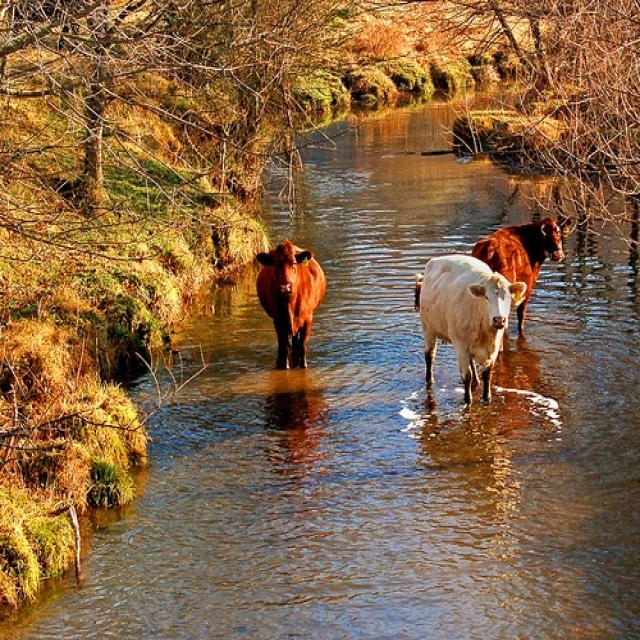cow: (419, 253, 526, 405), (471, 214, 570, 338), (254, 240, 328, 370)
